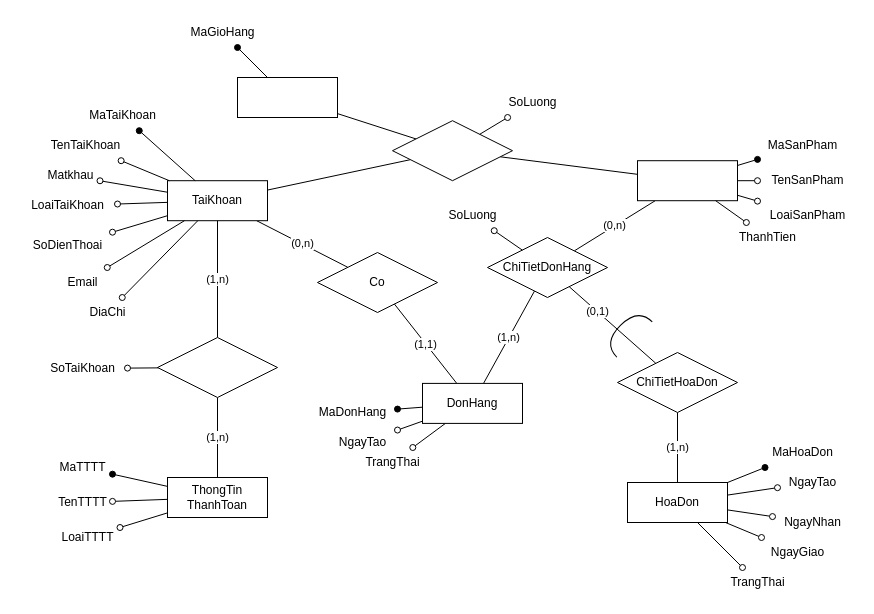
Some shapes in this 874 by 614 pixel diagram are drawn without their labels. The shapes that lost their labels are listed below. From the top down, each one's box as (x1, y1, x2, y2) in pixels, then its label:
(236, 76, 338, 118): GioHang
(392, 120, 512, 181): ChiTietGioHang
(636, 160, 738, 201): SanPham
(156, 336, 278, 398): PhuongThuc ThanhToan
